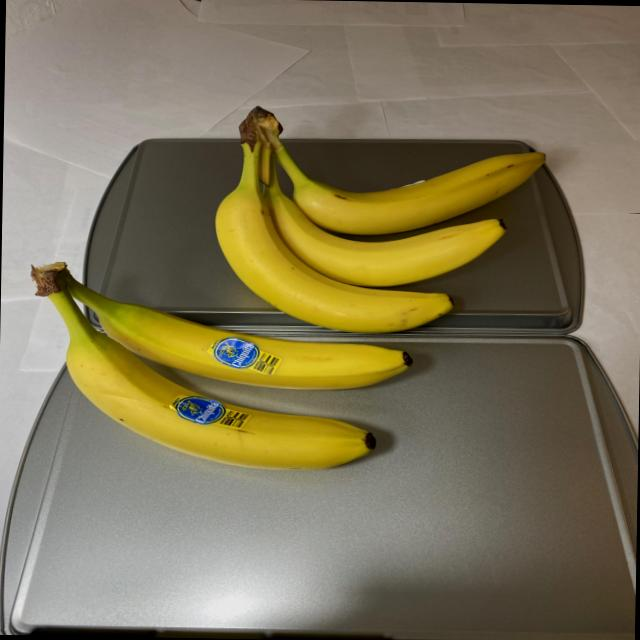banana: (22, 262, 421, 472), (207, 100, 552, 334)
